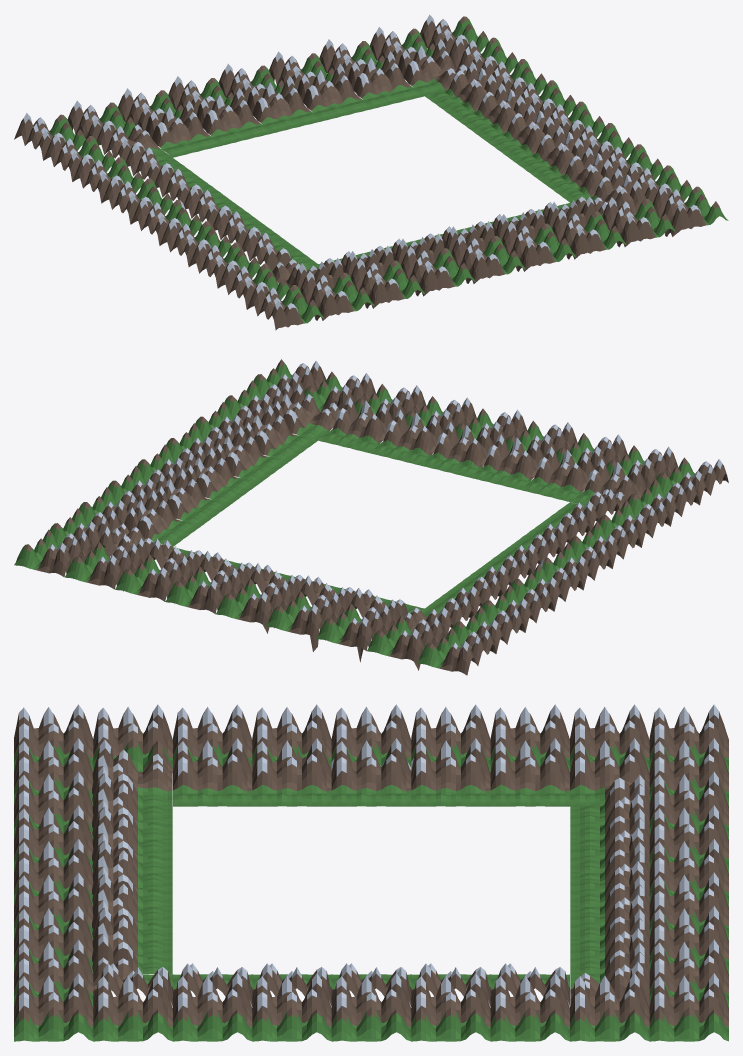
The model's file is MountainLargeFinal02.fbx.
3 views of the same model, one above another, from view 1: azimuth 30°, elevation 25°; view 2: azimuth 150°, elevation 25°; view 3: azimuth 270°, elevation 25° (orthographic). The views are drawn at different scales.
Parts seen in each view (by area): view 1: Plane; view 2: Plane; view 3: Plane.
Part boxes in pixels (<box>): Plane: <box>14,14,728,330</box>; Plane: <box>14,359,728,675</box>; Plane: <box>14,704,728,1041</box>.
Size of the model in its own units: 9000 by 835 by 9000.
